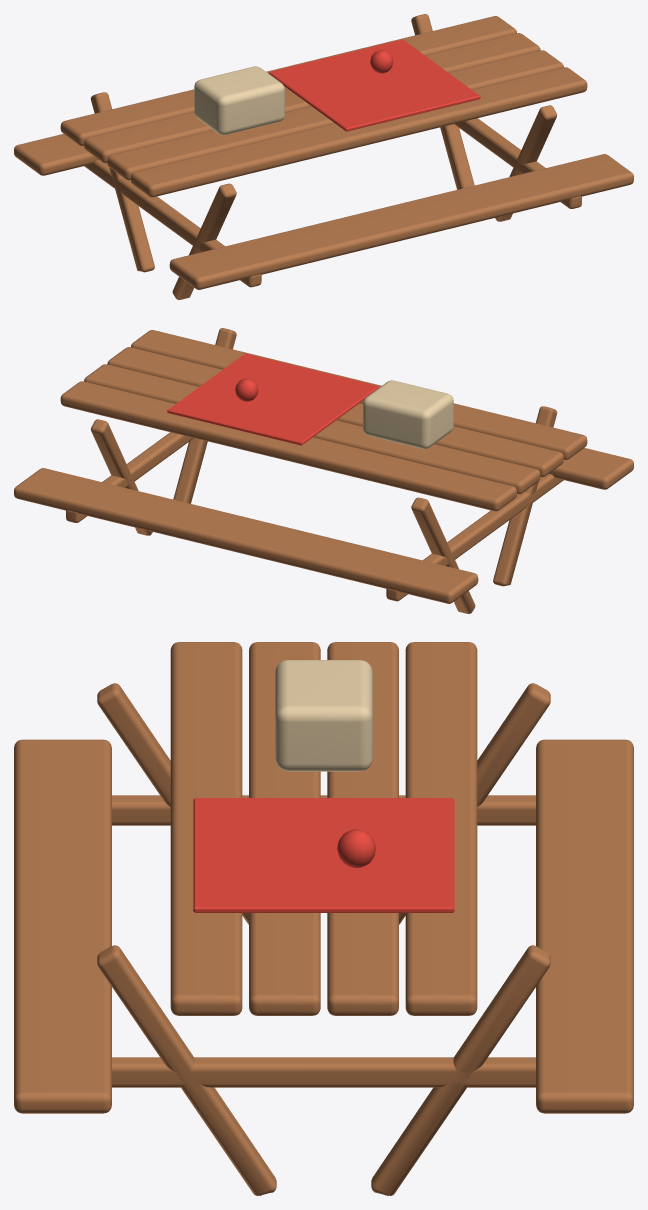
The model's file is picnic_table.glb.
The picture shows the model from 3 angles, top to bottom: view 1: azimuth 30°, elevation 25°; view 2: azimuth 150°, elevation 25°; view 3: azimuth 270°, elevation 25°; orthographic projection. The views are drawn at different scales.
Parts seen in each view (by area): view 1: picnic_table; view 2: picnic_table; view 3: picnic_table.
Boxes of the visible parts, x1,y1,x2,y2 form: picnic_table: (14,14,633,299); picnic_table: (14,328,633,613); picnic_table: (14,642,633,1195).
Size of the model in its own units: 2.6 by 1.04 by 1.9.
1 material, 1 textured.
